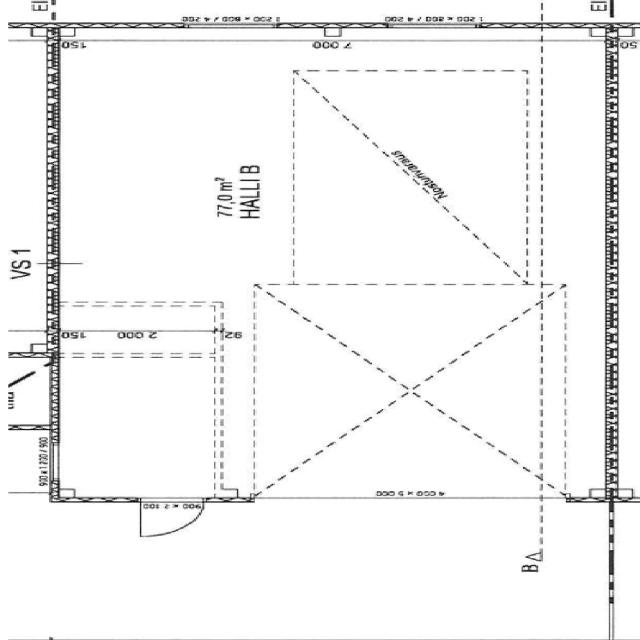door: (132, 494, 206, 540)
